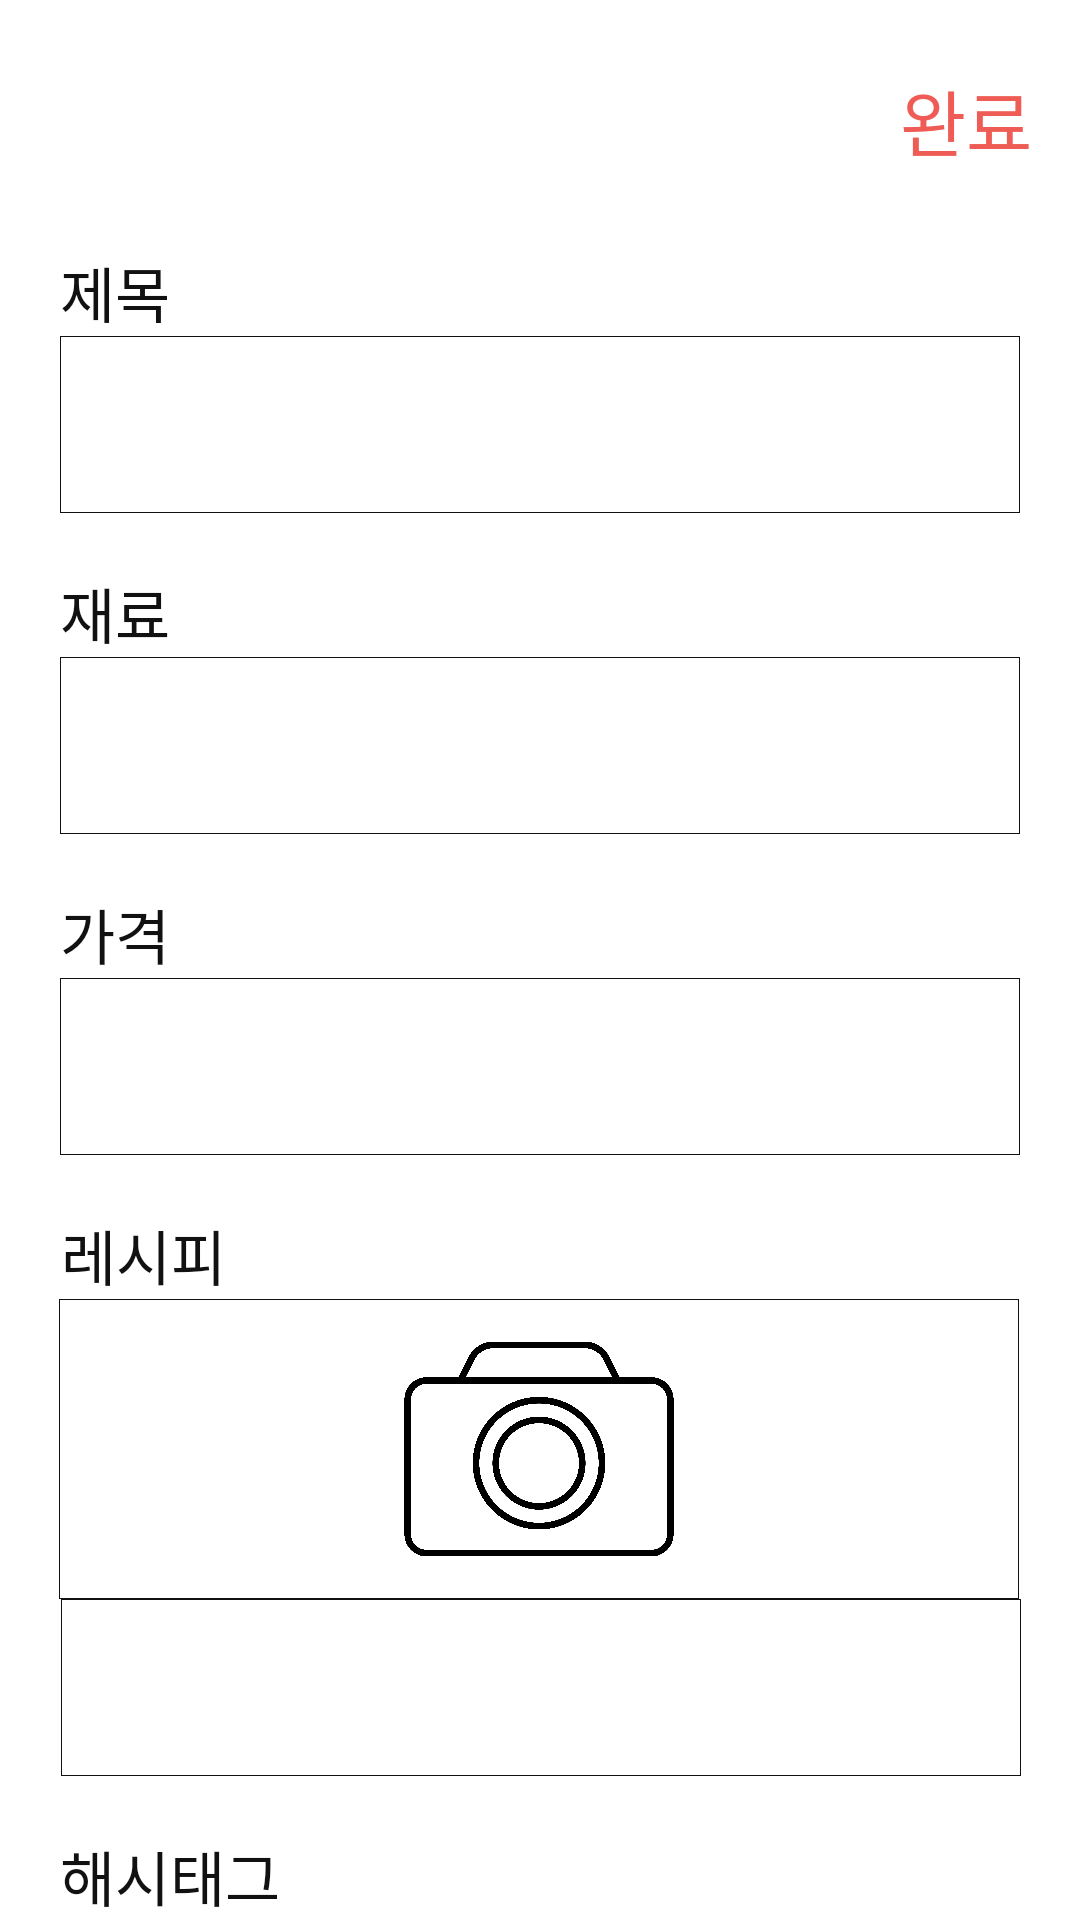

Point at icon controls on the screen. Image size 1080×1920, points as point (x, y).
camera: point (539, 1449)
